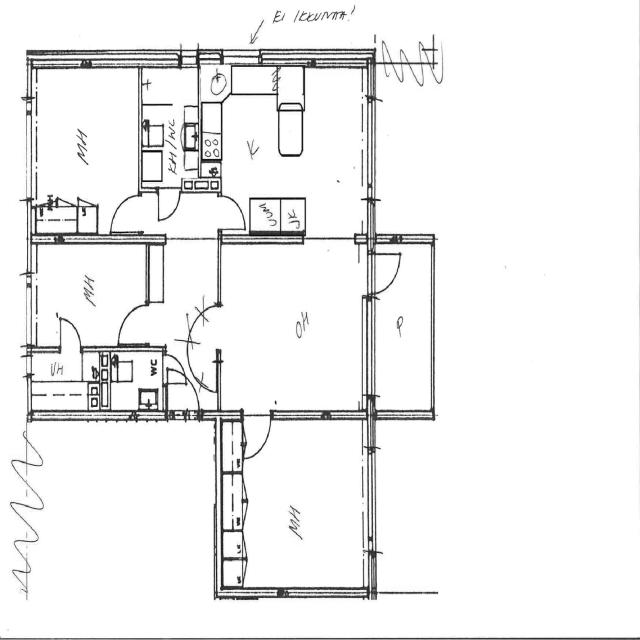door: (115, 300, 152, 348), (109, 190, 146, 236), (368, 248, 404, 294), (241, 410, 273, 461), (218, 190, 248, 232), (54, 314, 86, 350), (190, 304, 216, 344), (155, 185, 182, 222), (162, 354, 186, 386)
window: (357, 428, 383, 556), (357, 296, 381, 398), (267, 403, 369, 427), (361, 92, 382, 203), (20, 99, 40, 203), (285, 582, 367, 604), (21, 269, 36, 347), (19, 345, 37, 380), (252, 584, 284, 602)
zone: (188, 61, 374, 228), (219, 414, 372, 594), (217, 235, 370, 414), (31, 64, 141, 232), (28, 239, 154, 343), (142, 235, 222, 342), (29, 346, 109, 416), (109, 348, 164, 415)
